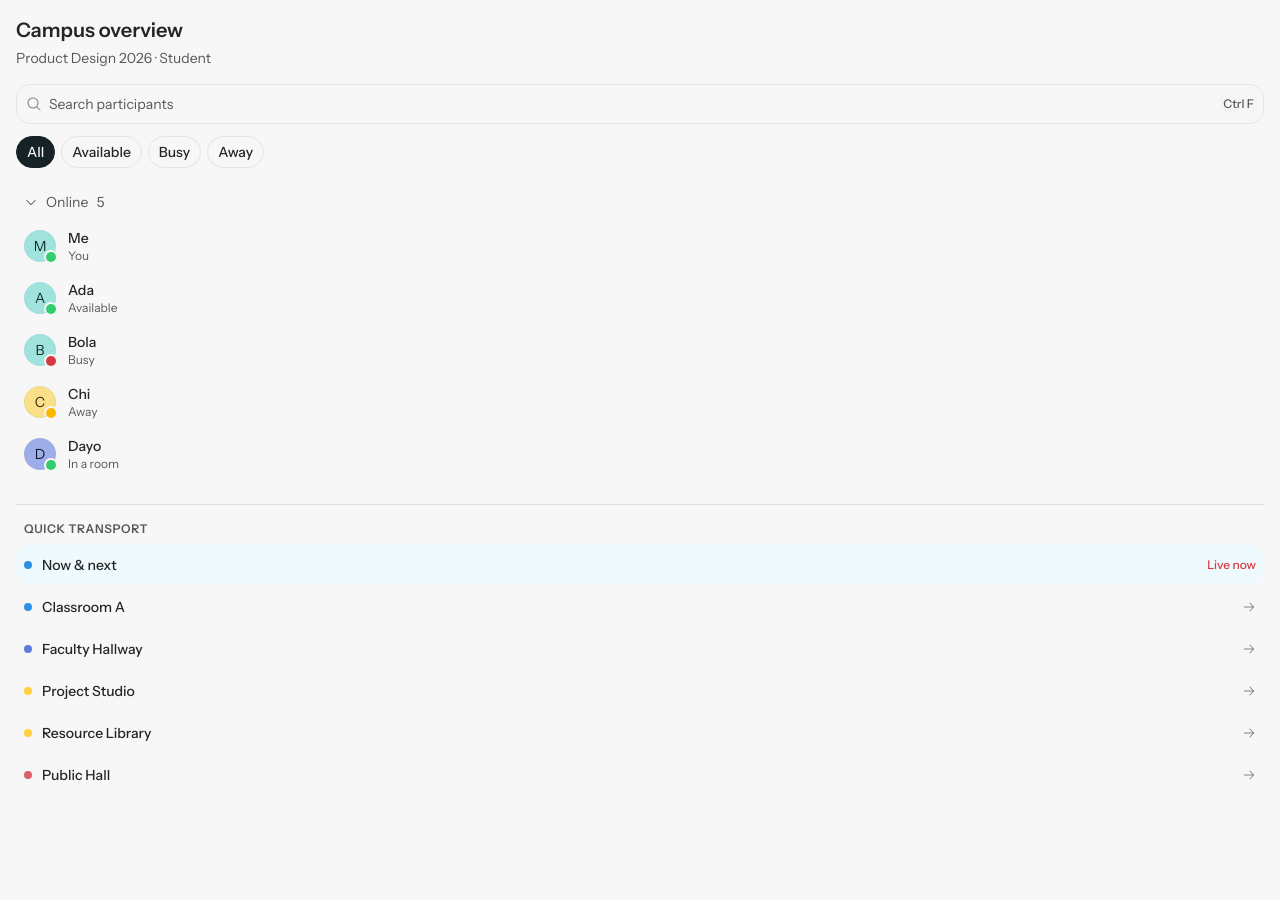
Test: CampusOverviewPanel › status and rooms › filters the roster as the participant is searched for
Type "ayo" into the search field with placeholder "Search participants". click: (640, 104)
box: x1=16 y1=84 x2=1264 y2=124
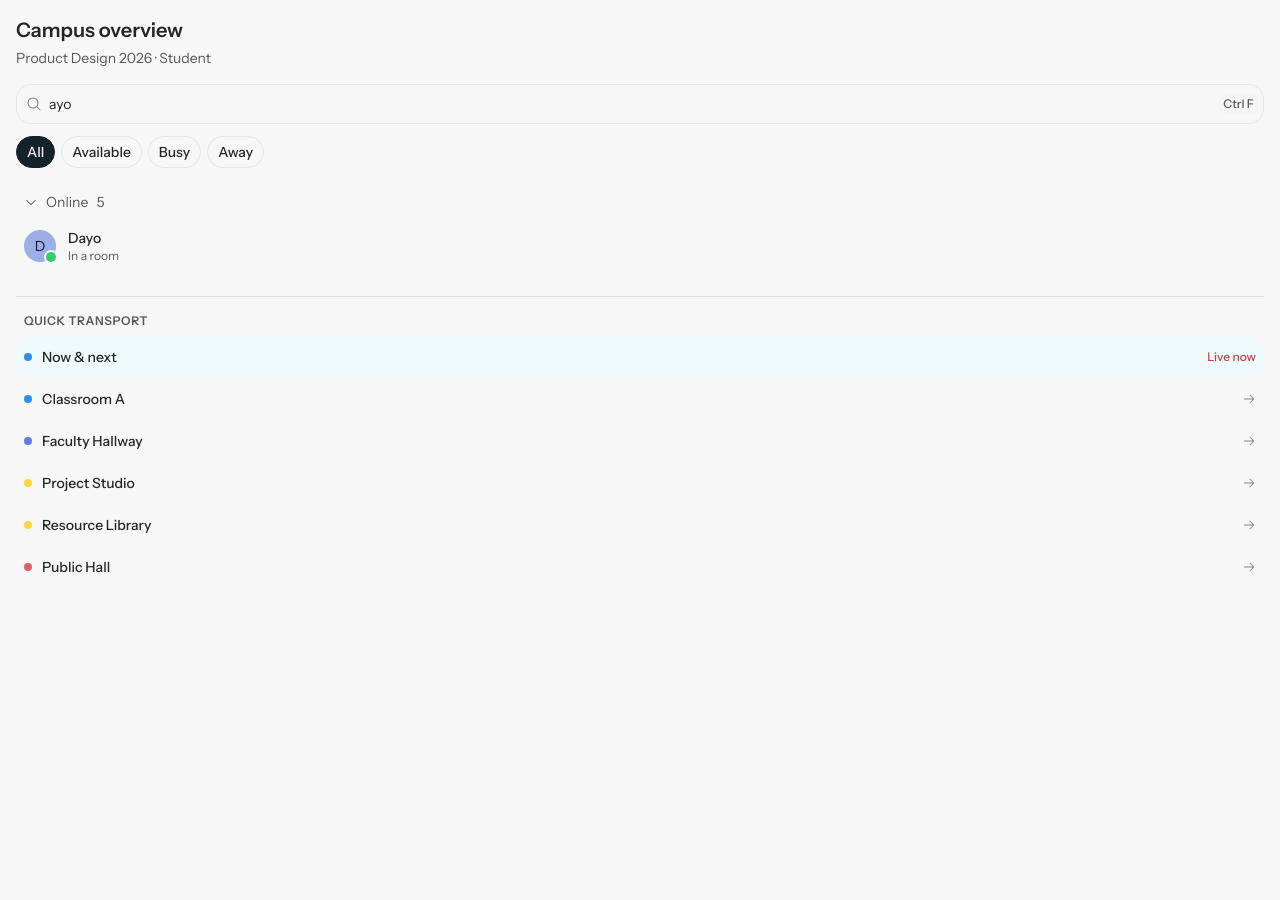
Expected: the text "Dayo" is shown, x1=68 y1=229 x2=101 y2=247
Expected: the text "Ada" is gone
